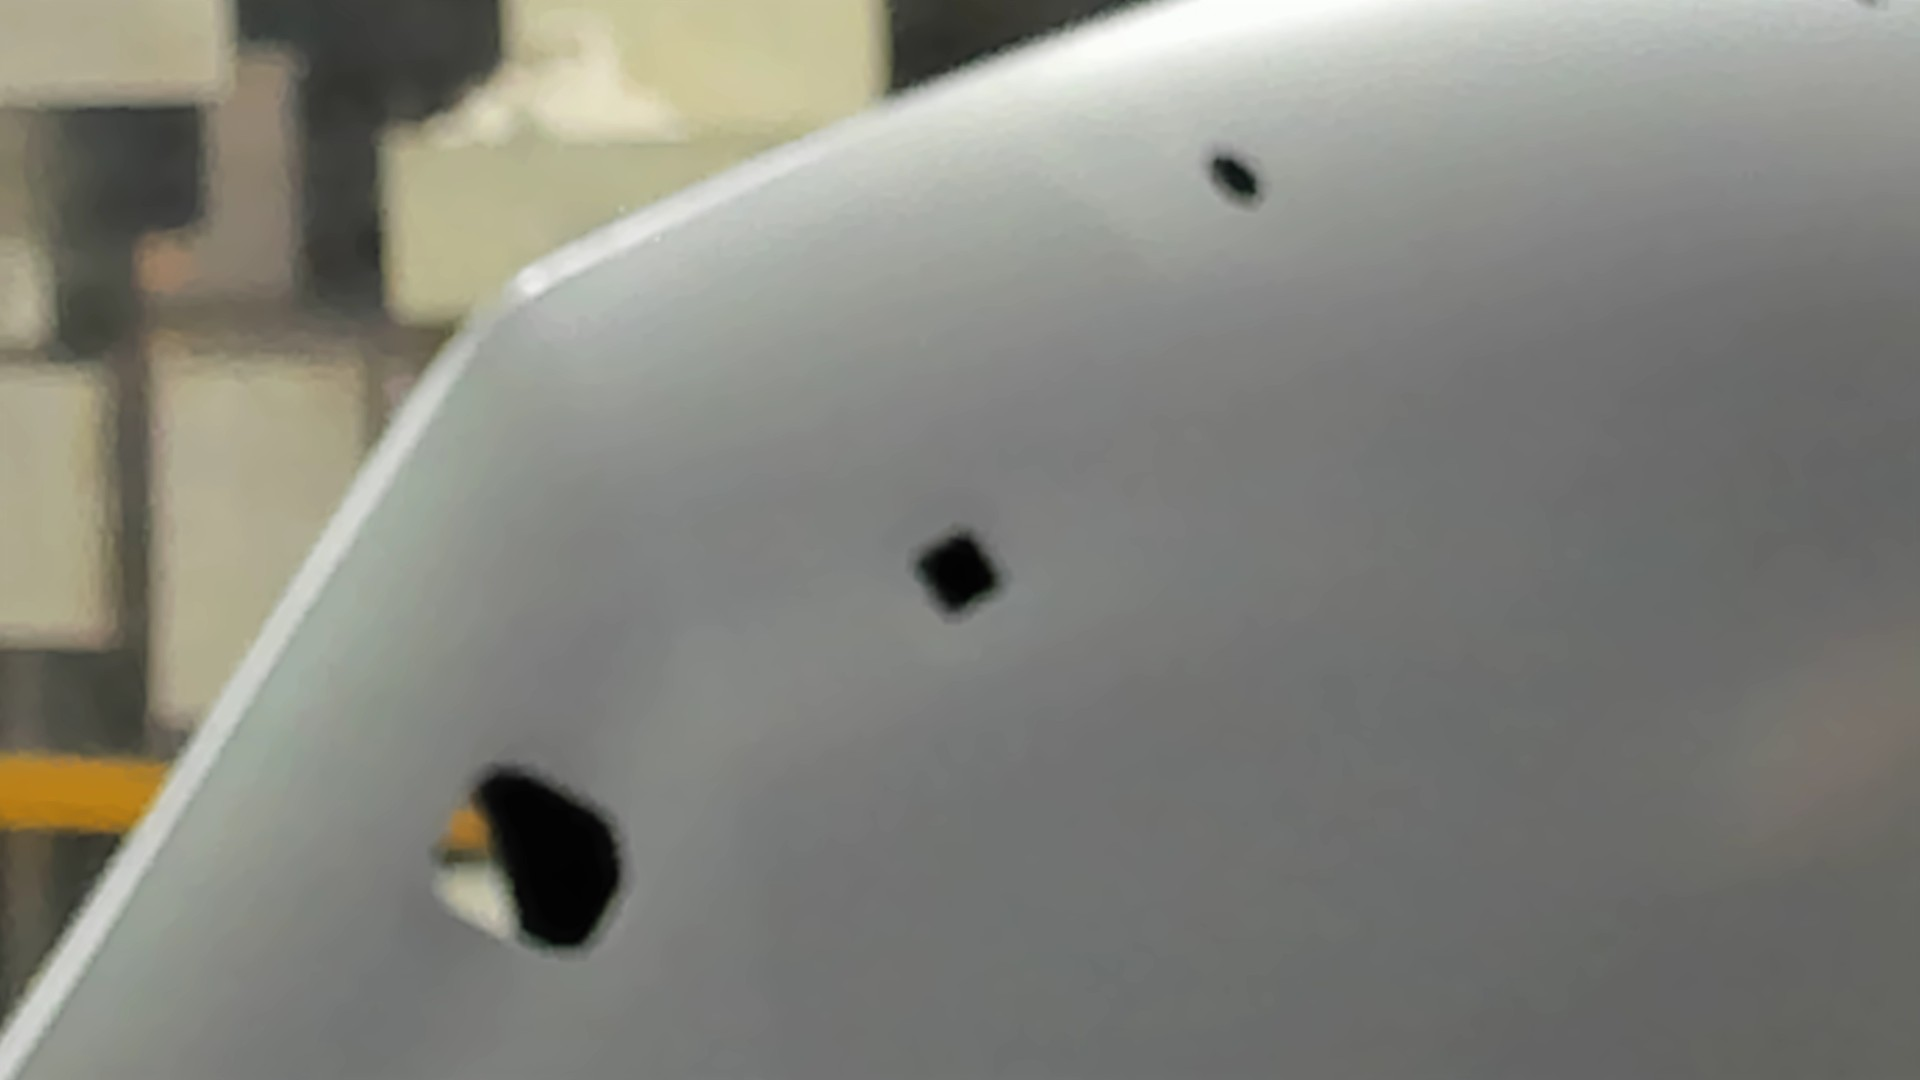chico: (1201, 138, 1266, 211)
grande: (422, 764, 634, 963)
mediano: (909, 525, 1006, 626)
